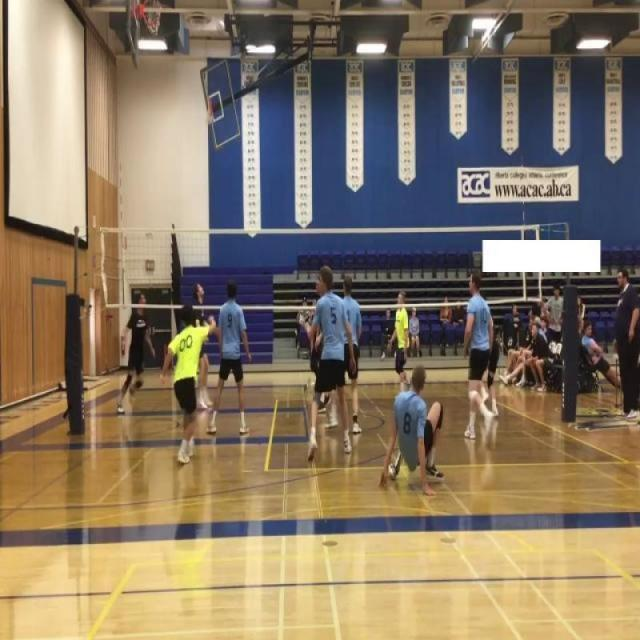volleyball: (216, 20, 226, 37)
